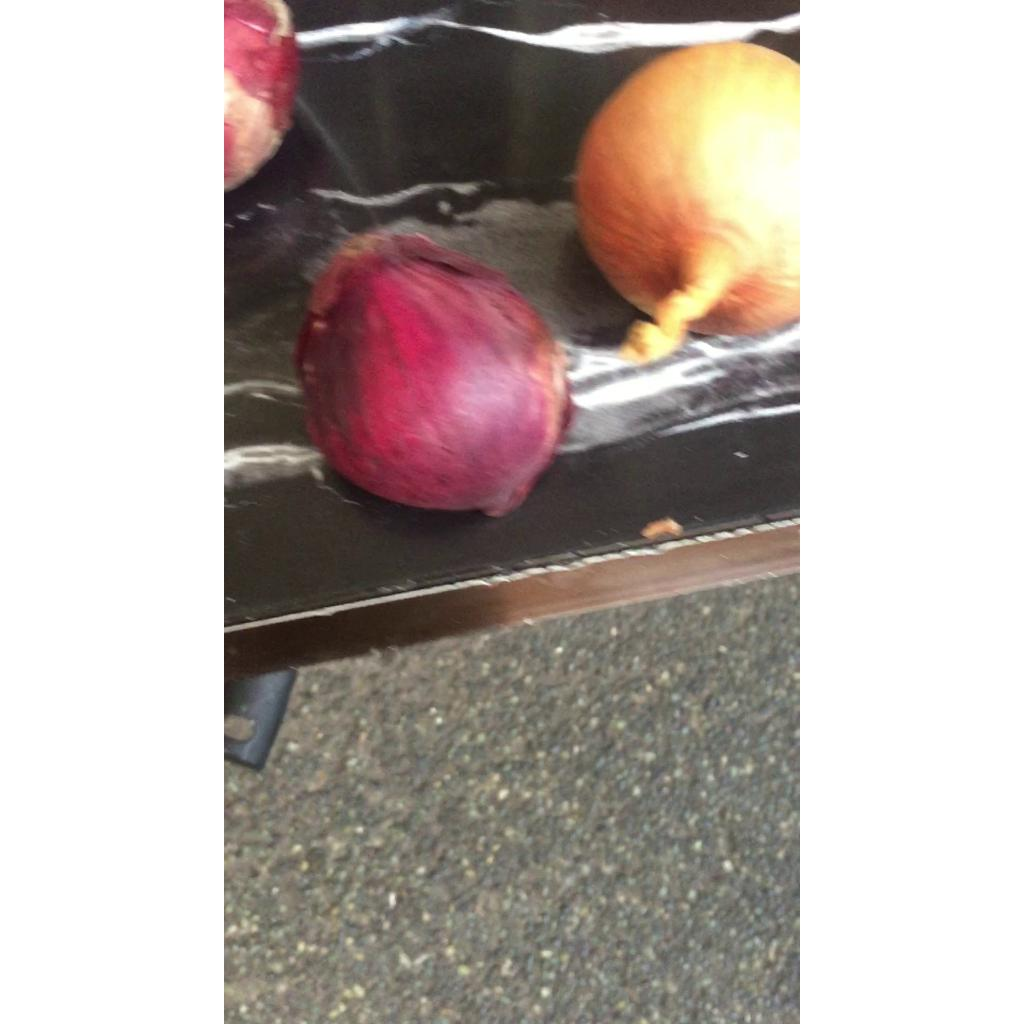Onion: (294, 233, 573, 516), (575, 41, 800, 363), (224, 0, 298, 189)
